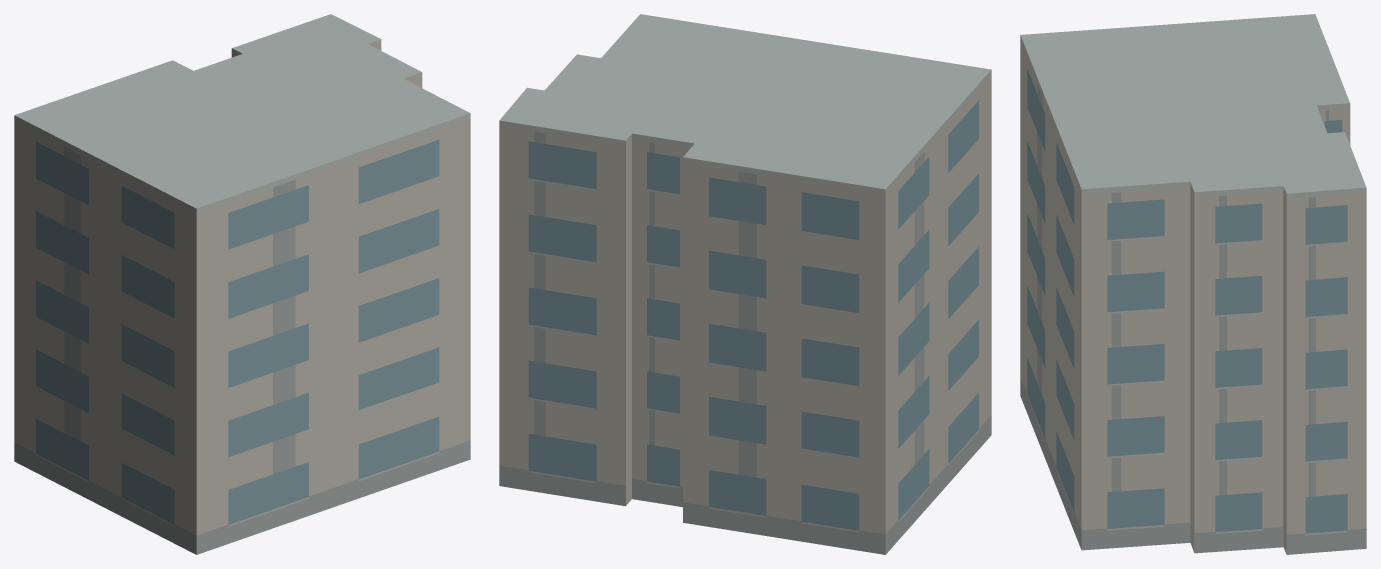
The model's file is survey-upis-32637102.glb.
3 renders of one model, left to right at view 1: azimuth 30°, elevation 25°; view 2: azimuth 150°, elevation 25°; view 3: azimuth 270°, elevation 25°, orthographic. The views are drawn at different scales.
Visible parts, largest first — view 1: survey-upis-32637102.tmp; view 2: survey-upis-32637102.tmp; view 3: survey-upis-32637102.tmp.
Part boxes in pixels (x1,y1,x2,y2): survey-upis-32637102.tmp: (14, 14, 470, 554); survey-upis-32637102.tmp: (499, 14, 991, 554); survey-upis-32637102.tmp: (1020, 14, 1366, 554).
Bounding box in the file's own units: 16.67 × 15.6 × 13.56.
